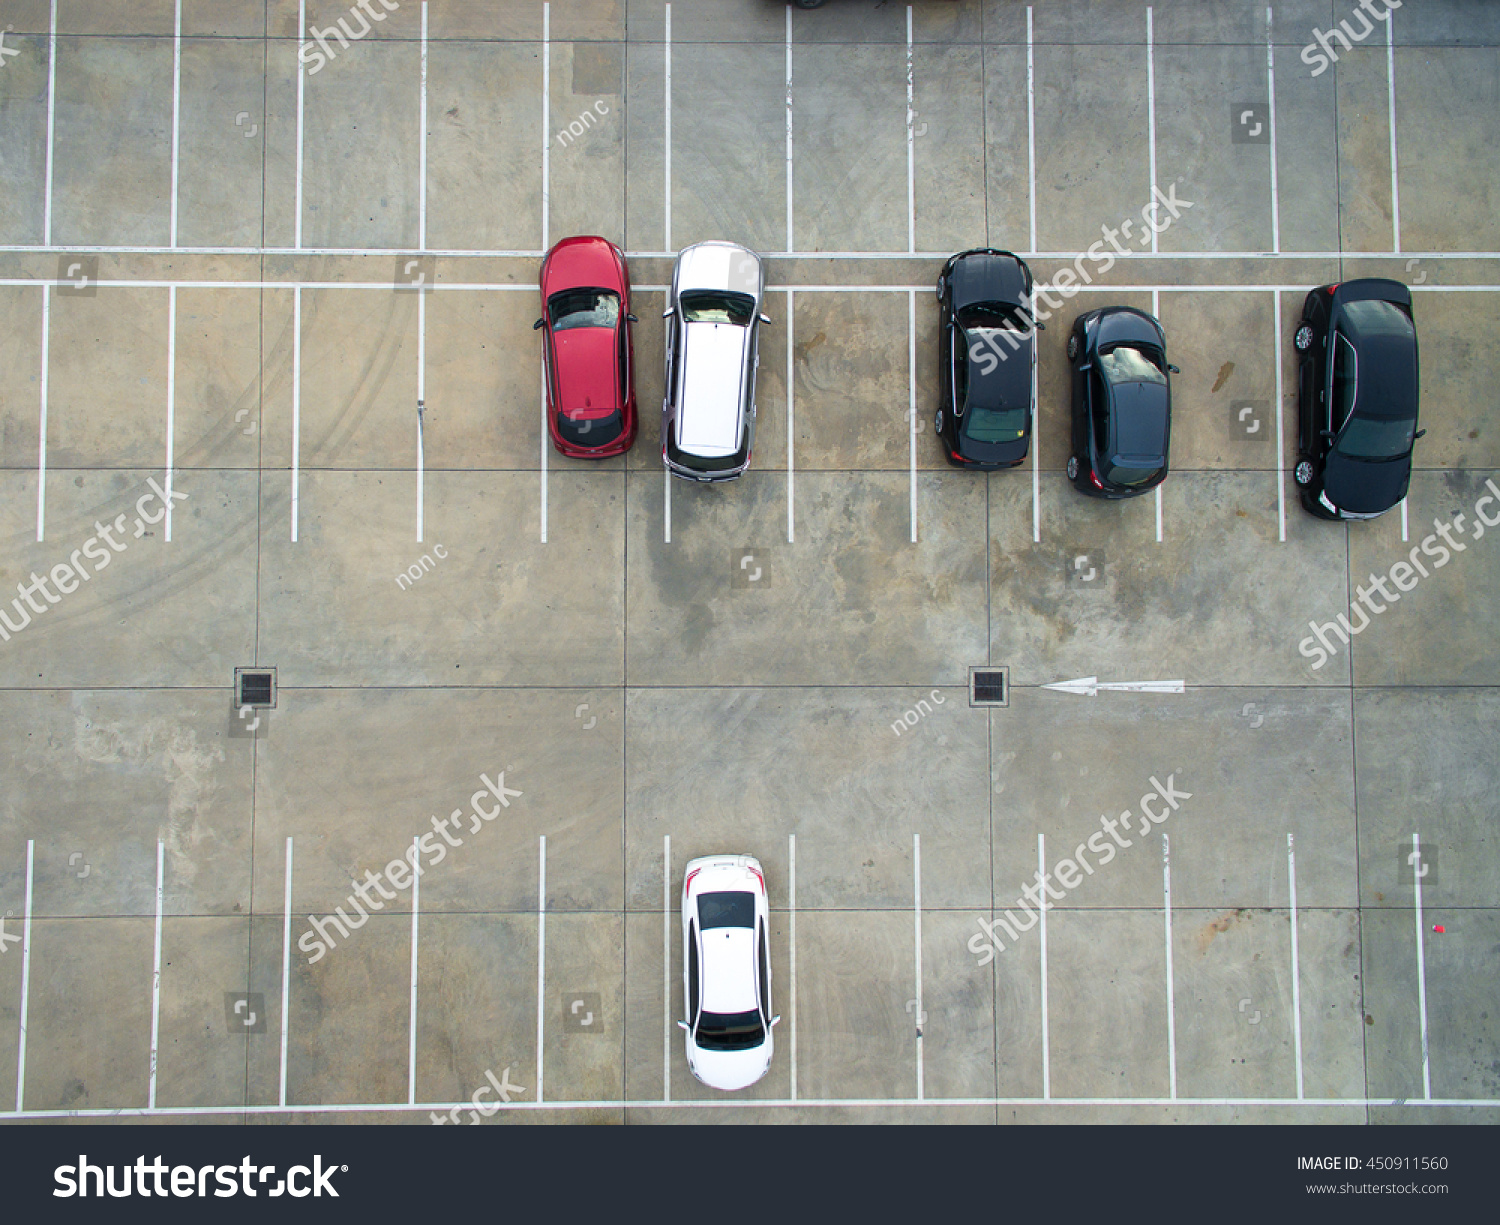Car: (660, 241, 767, 484), (532, 231, 644, 462), (674, 850, 782, 1089), (1063, 302, 1189, 505), (932, 249, 1038, 474)
LaneMark: (1, 1098, 1498, 1120), (11, 837, 39, 1110), (2, 278, 538, 292), (145, 837, 169, 1108), (273, 835, 295, 1107), (1412, 824, 1431, 1099), (1284, 829, 1303, 1099), (39, 1, 59, 244), (1265, 5, 1283, 252), (406, 832, 422, 1107), (1164, 824, 1179, 1095), (167, 1, 183, 245), (534, 836, 549, 1099), (292, 1, 306, 247), (914, 831, 924, 1102), (789, 832, 799, 1099), (292, 288, 301, 542), (419, 2, 429, 249), (1147, 5, 1157, 250), (663, 835, 672, 1100), (166, 287, 174, 542), (40, 288, 49, 543), (1037, 284, 1312, 292), (1040, 826, 1048, 1095), (1032, 287, 1039, 545), (786, 290, 794, 548), (543, 1, 551, 250), (785, 5, 792, 254), (1024, 250, 1323, 257), (665, 5, 673, 253), (539, 363, 549, 542), (1276, 293, 1282, 545), (417, 292, 424, 540), (911, 292, 916, 548), (1028, 7, 1033, 257), (765, 285, 937, 292), (909, 6, 913, 254), (663, 474, 672, 542)
